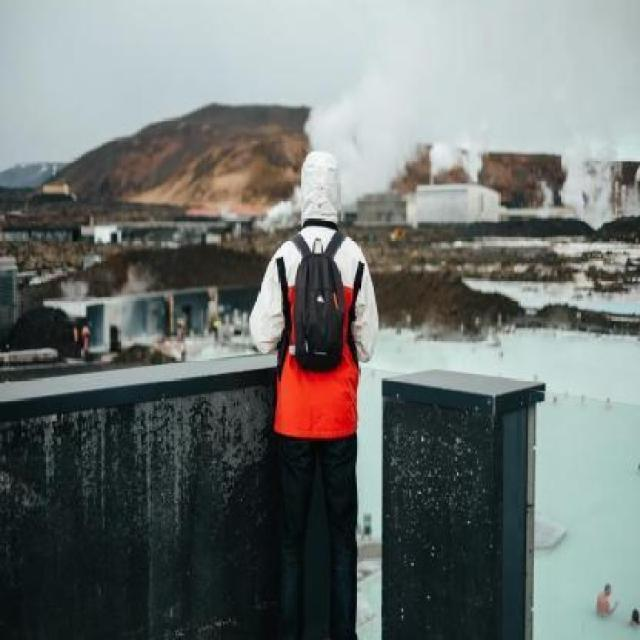backpack: (284, 231, 350, 375)
